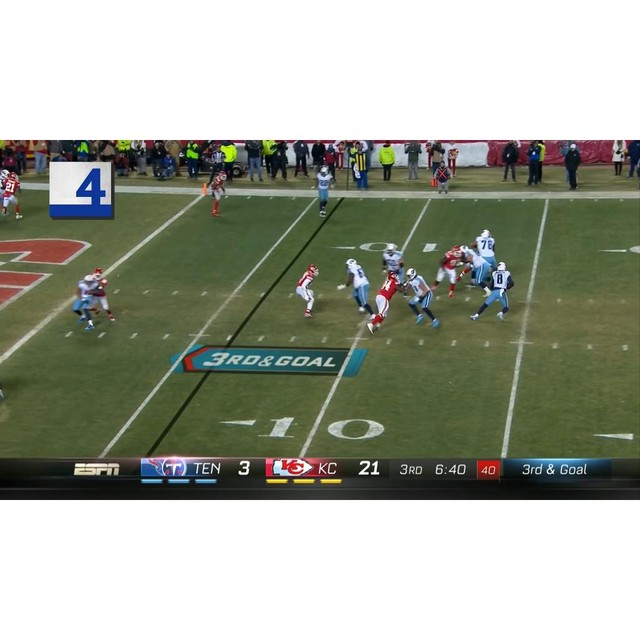american-football-player: (471, 261, 514, 322), (367, 271, 406, 333), (402, 268, 440, 328), (339, 258, 373, 315), (431, 246, 464, 299), (88, 265, 115, 326), (459, 244, 491, 294), (71, 274, 97, 330), (472, 228, 498, 280), (296, 264, 319, 318), (207, 168, 228, 217), (381, 243, 405, 283), (314, 165, 332, 217)
